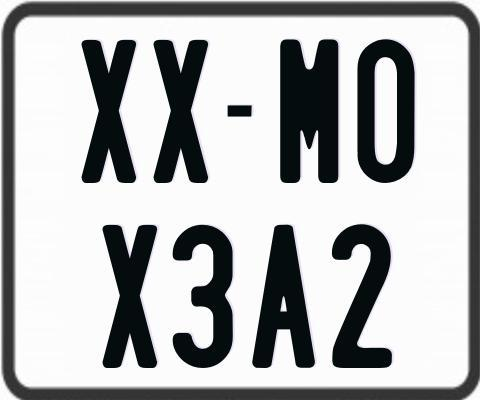0: (356, 39, 414, 189)
2: (329, 224, 394, 372)
3: (170, 225, 234, 369)
A: (252, 222, 321, 368)
M: (277, 37, 338, 186)
X: (103, 225, 163, 372), (154, 37, 212, 184), (81, 38, 138, 185)
